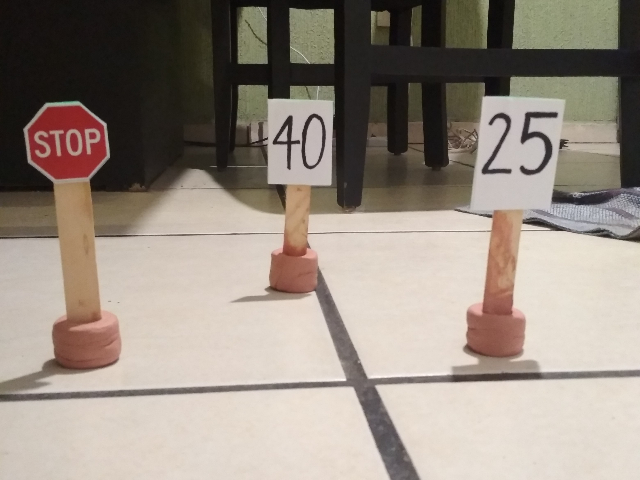Limit 25: (467, 94, 567, 213)
Limit 40: (264, 95, 335, 189)
Stop: (20, 100, 114, 186)
